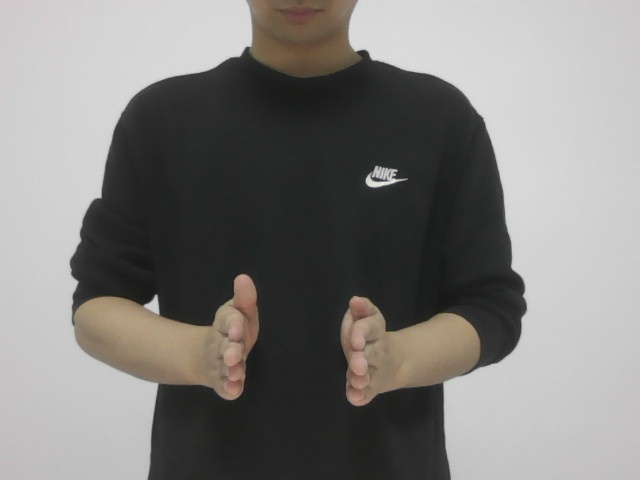road: (191, 270, 416, 421)
